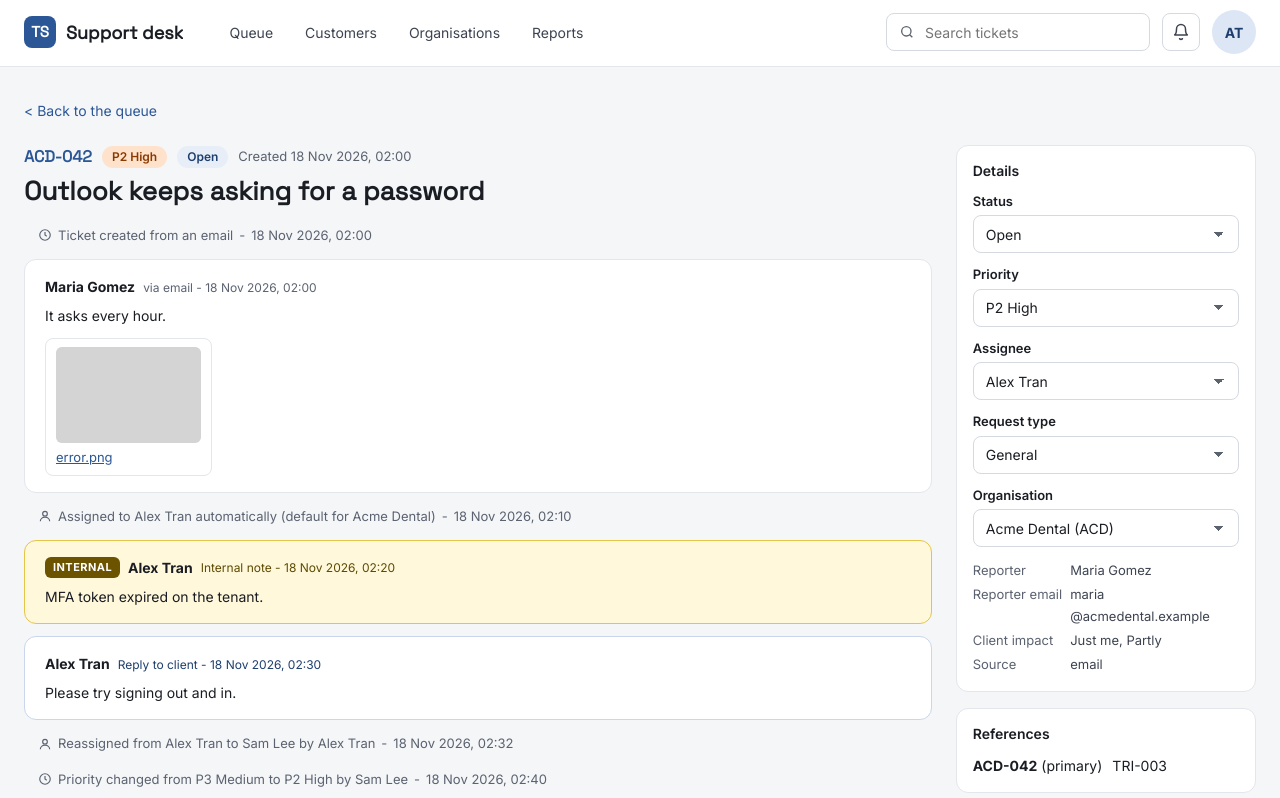
Agent ticket page › Cancel and Esc put the old organisation back without saving
Expected: the heading "Outlook keeps asking for a password" is shown, [24,174,484,208]
Select "Beta Clinic (BCL)" in the dropdown labelled "Organisation" at (1106, 528), box [973,509,1239,547]
(page scrolled)
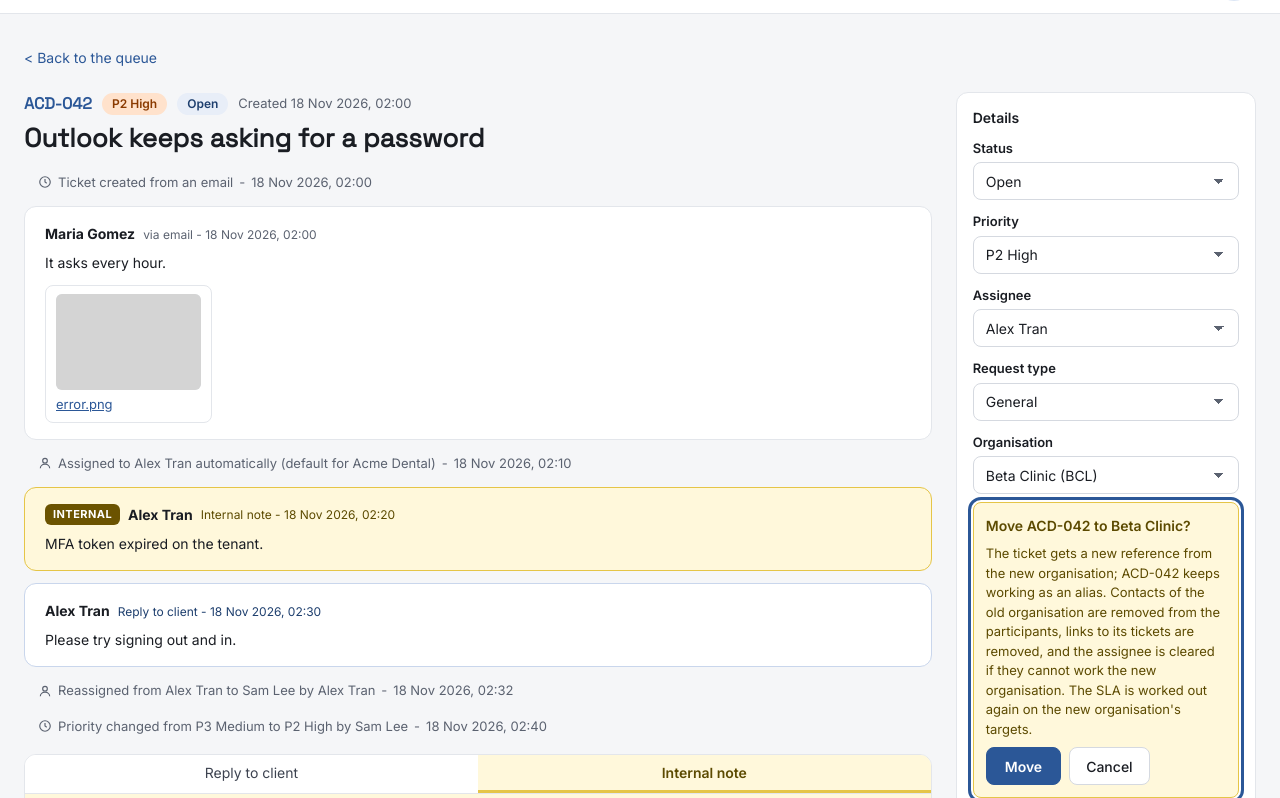
Click the button "Cancel" at (1109, 766), box [1069,747,1150,785]
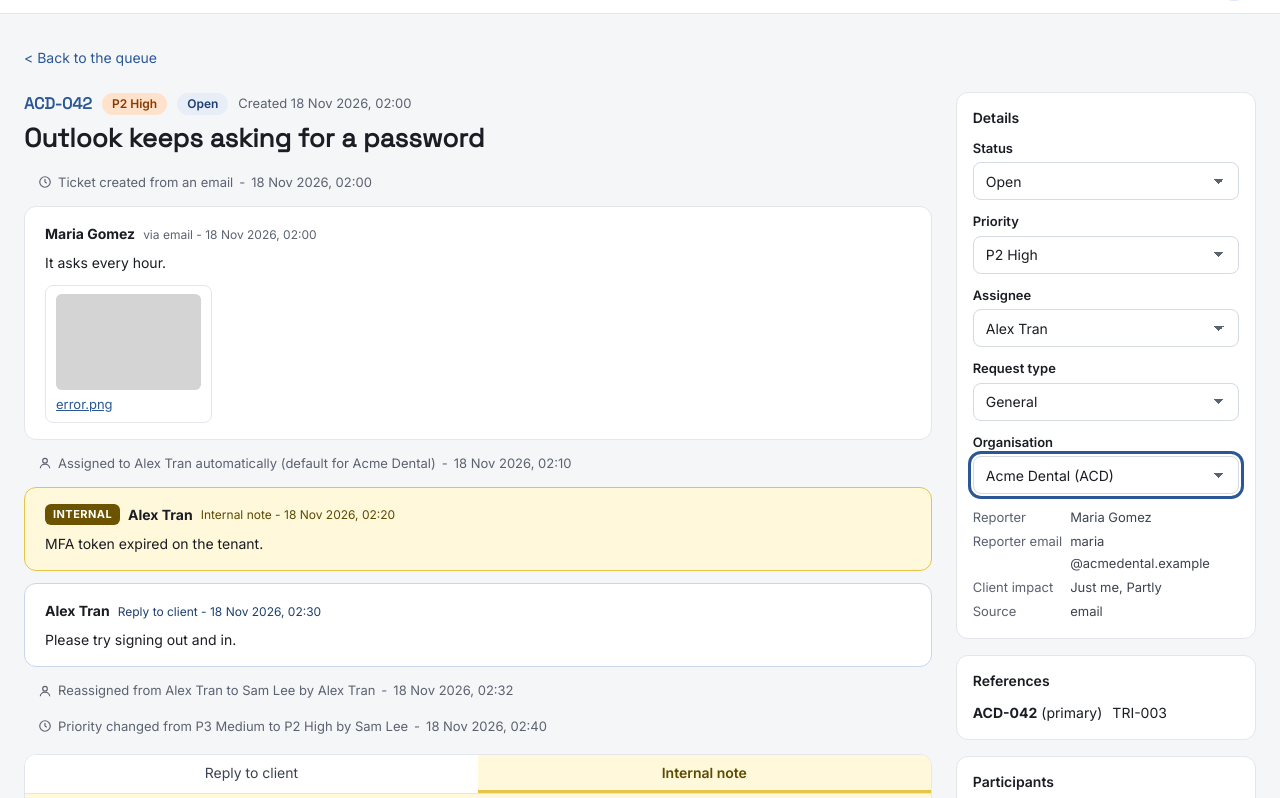
Expected: the text "Move ACD-042" is gone
Select "Beta Clinic (BCL)" in the dropdown labelled "Organisation" at (1106, 475), box [973,456,1239,494]
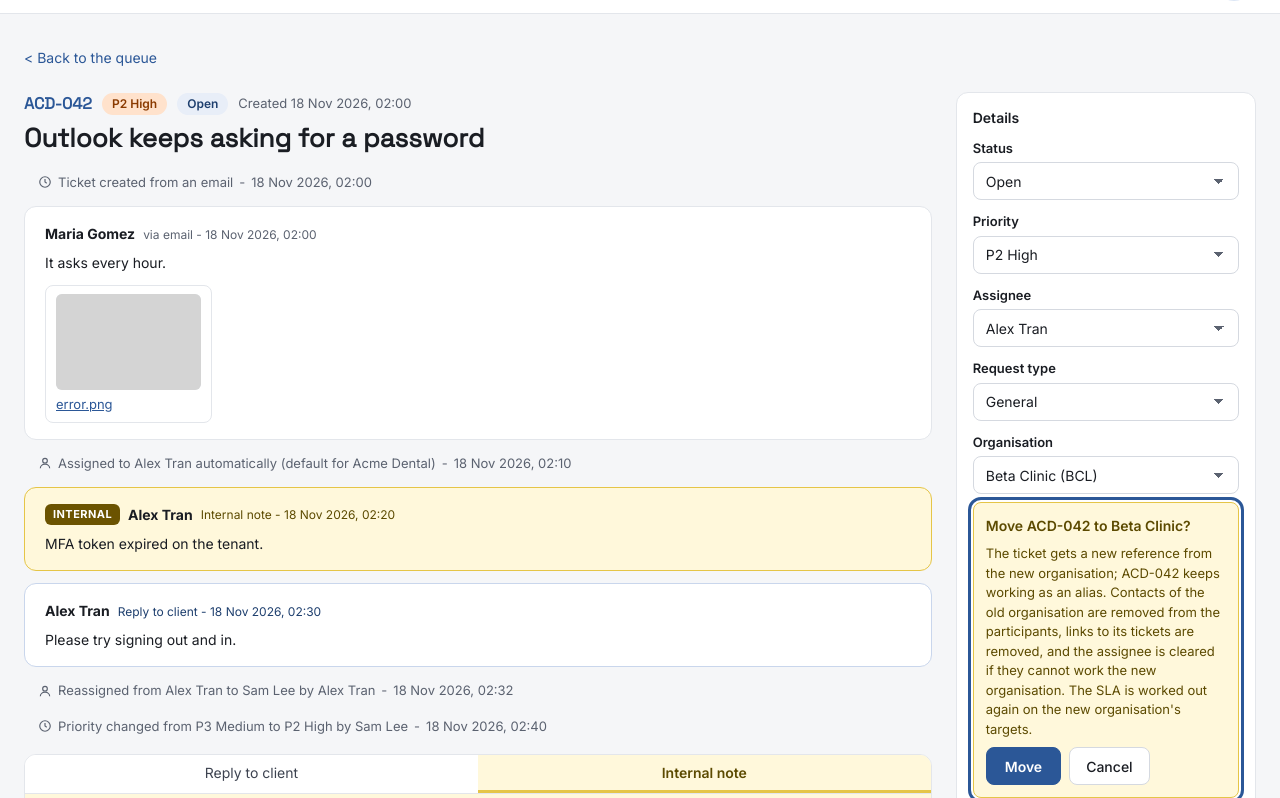
Press Escape in the element "Move ACD-042", box [973,502,1239,797]
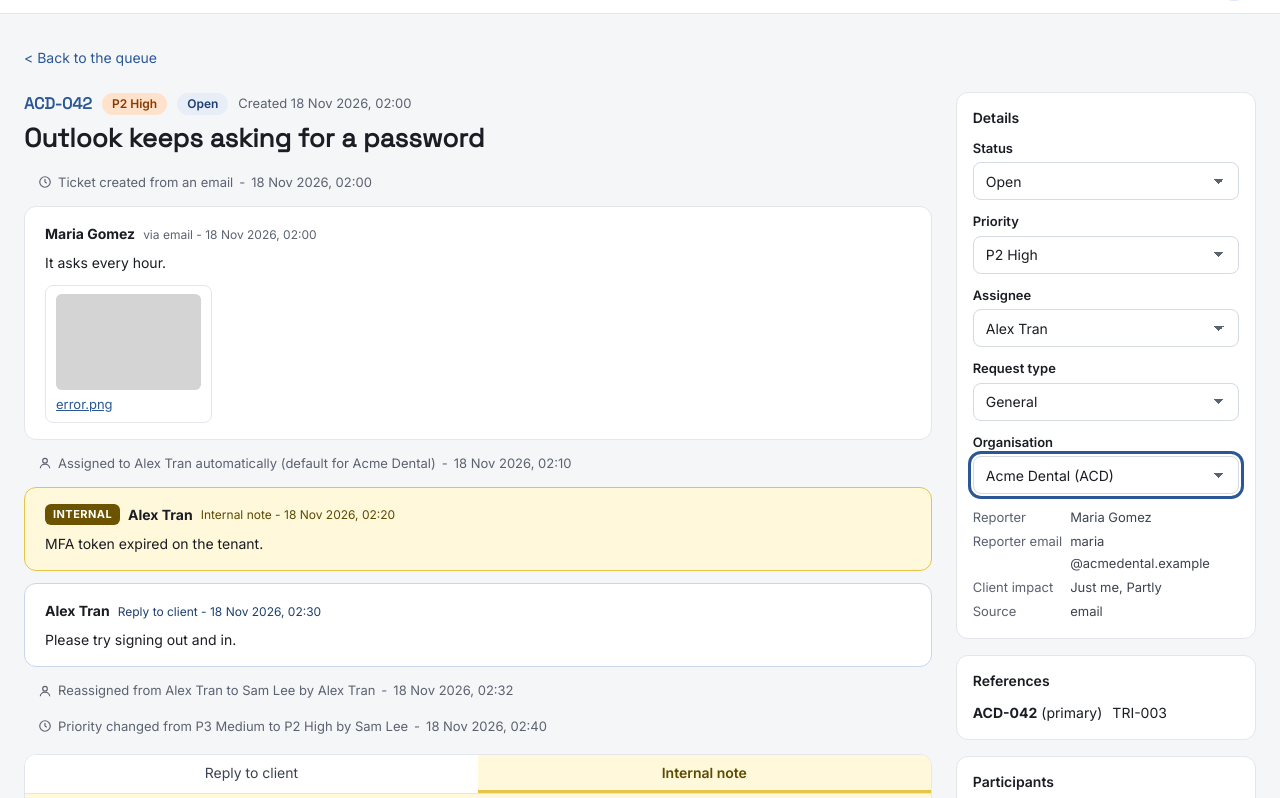
Expected: the text "Move ACD-042" is gone
